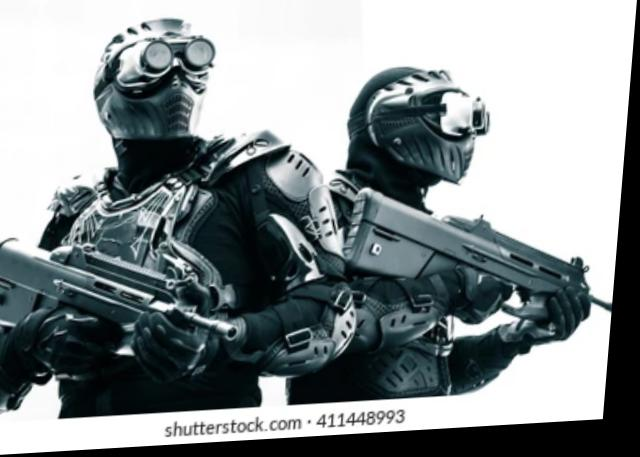other: (8, 27, 340, 412), (332, 68, 552, 406)
